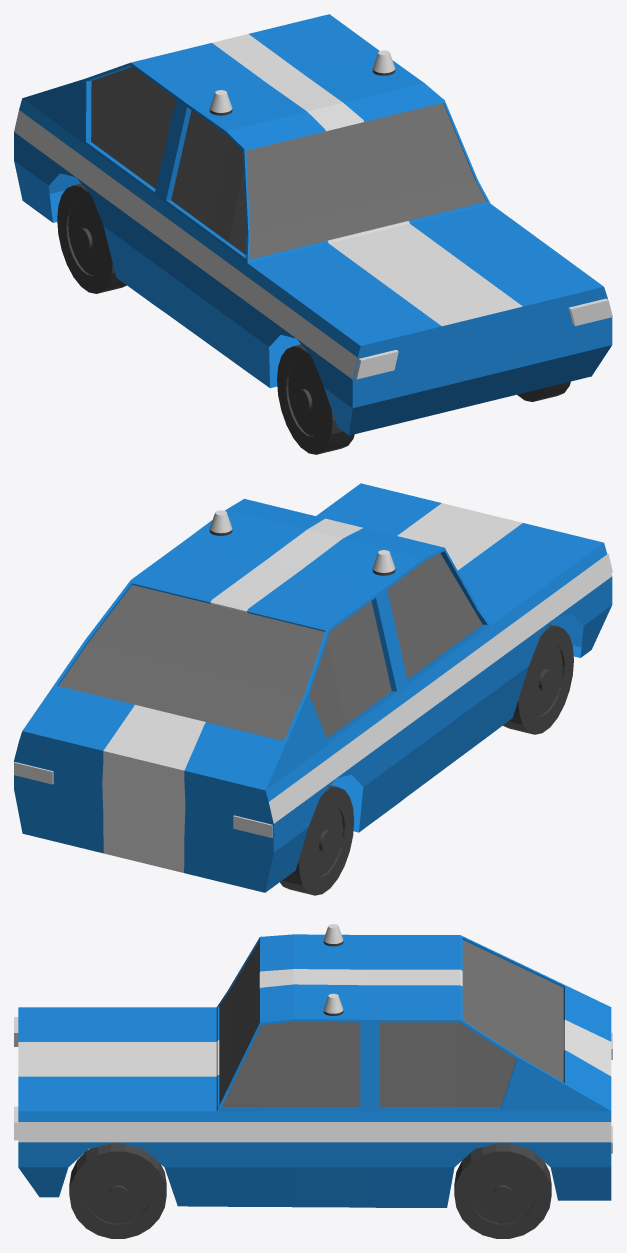
Rendered from Police Car.fbx.
3 views of the same model, one above another, from view 1: azimuth 30°, elevation 25°; view 2: azimuth 150°, elevation 25°; view 3: azimuth 270°, elevation 25° (orthographic). The views are drawn at different scales.
Visible parts, largest first — view 1: Circle; view 2: Circle; view 3: Circle.
Part boxes in pixels (left/top/right/bottom): Circle: left=14, top=14, right=612, bottom=454; Circle: left=14, top=483, right=612, bottom=895; Circle: left=14, top=924, right=612, bottom=1238.
Bounding box in the file's own units: 125 × 119 × 285.
